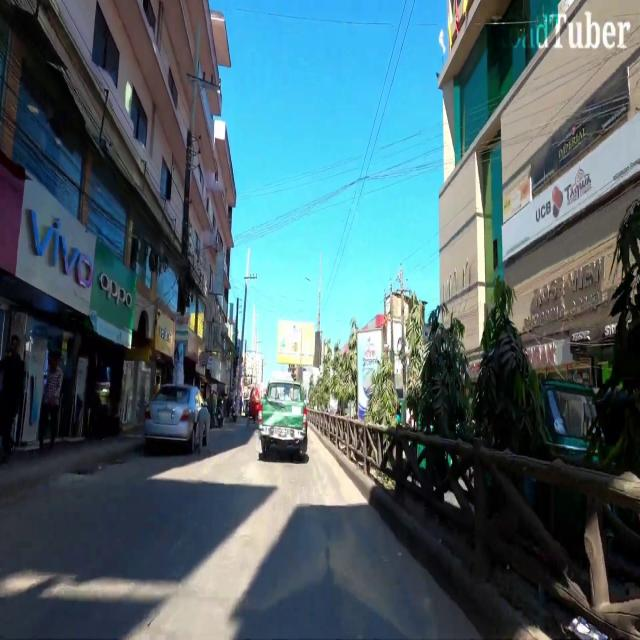silver: (141, 379, 214, 454)
